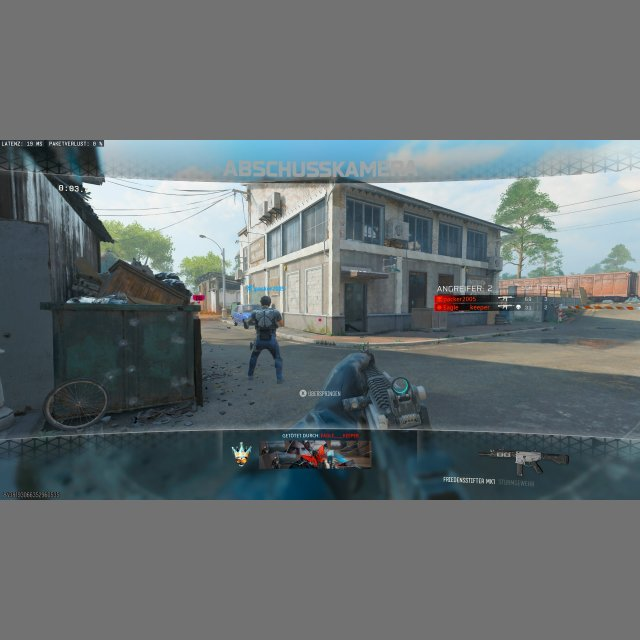head: (260, 295, 271, 308)
player: (244, 295, 285, 384)
